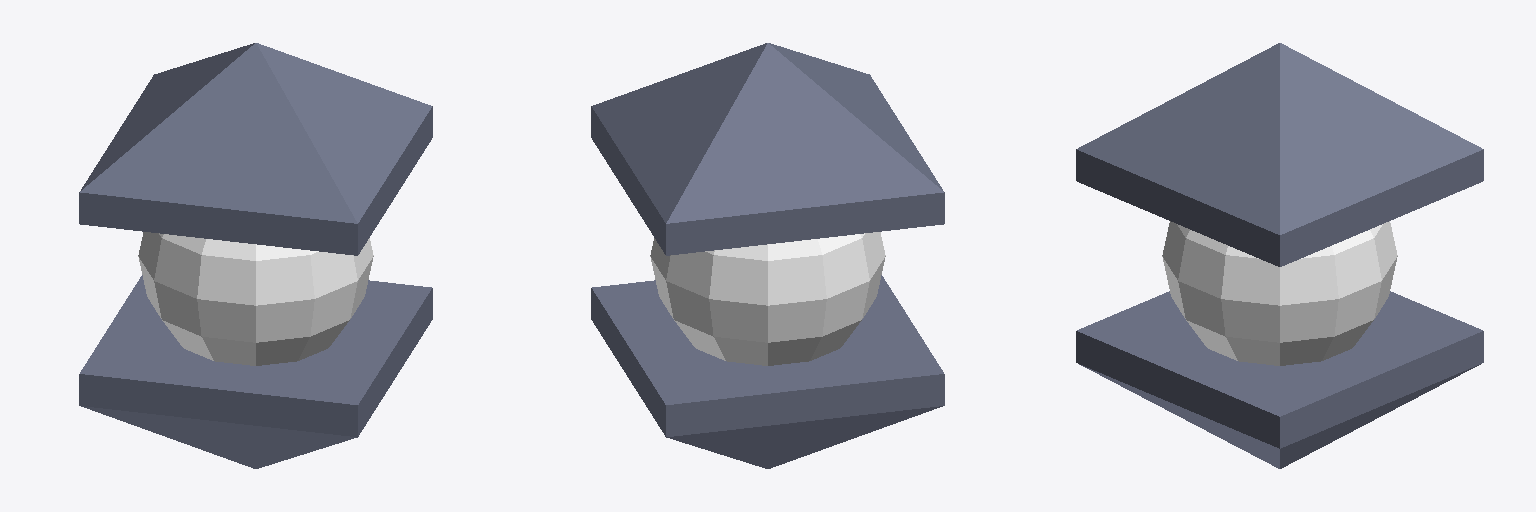
3 views of the same model, side by side, from view 1: azimuth 30°, elevation 25°; view 2: azimuth 150°, elevation 25°; view 3: azimuth 270°, elevation 25° (orthographic).
Parts seen in each view (by area): view 1: TemporalCubeMesh_TemporalCube; view 2: TemporalCubeMesh_TemporalCube; view 3: TemporalCubeMesh_TemporalCube.
Boxes of the visible parts, <box> form: TemporalCubeMesh_TemporalCube: <box>79,43,432,468</box>; TemporalCubeMesh_TemporalCube: <box>591,43,944,468</box>; TemporalCubeMesh_TemporalCube: <box>1076,43,1483,468</box>.
Bounding box in the file's own units: 1.73 × 2 × 1.73.
1 materials, 1 textured.